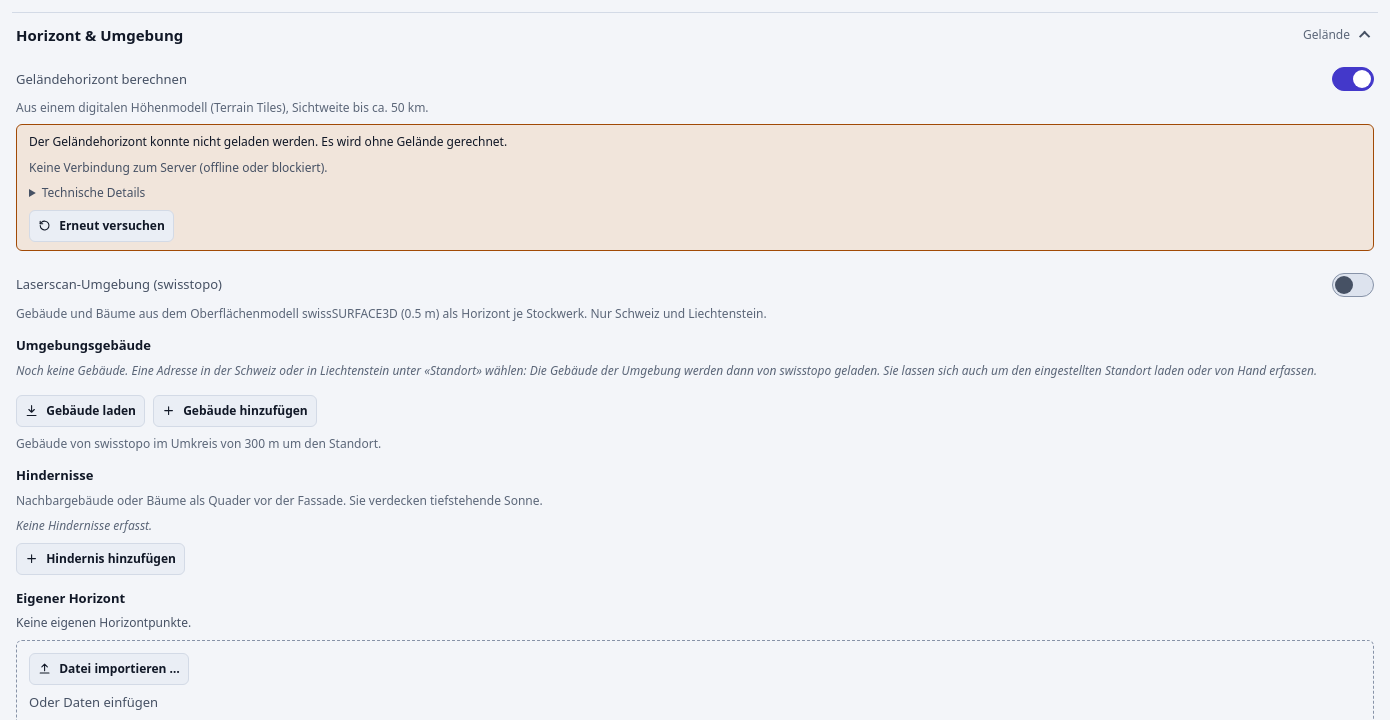
it: HorizonSection › terrain › retries a failed download (here served from the result cache)
Check: the text "konnte nicht geladen werden" is shown, box [29, 133, 507, 150]
Check: the text "Keine Verbindung zum Server (offline oder blockiert)." is shown, box [29, 159, 328, 176]
Click the button "Erneut versuchen".
click(101, 226)  # box [29, 210, 174, 242]
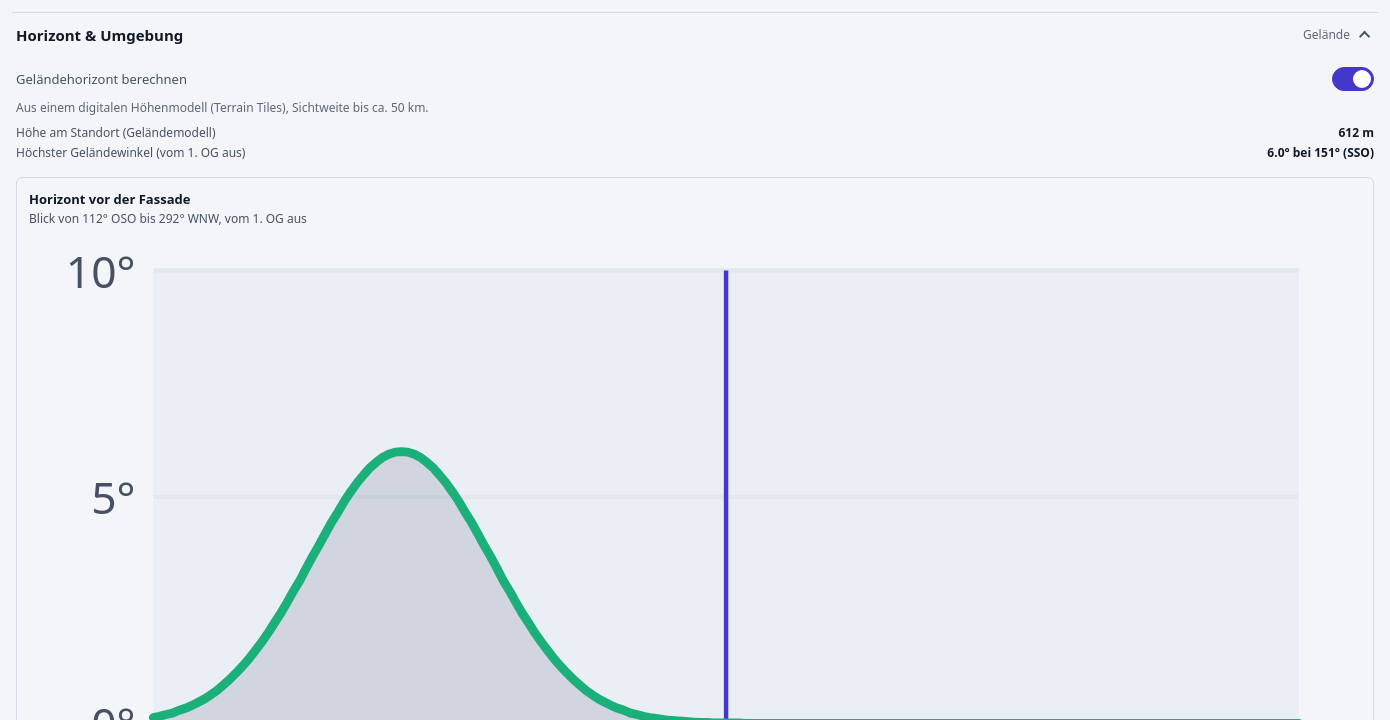
Check: the text "6.0° bei 151° (SSO)" is shown, box [1267, 144, 1374, 161]
